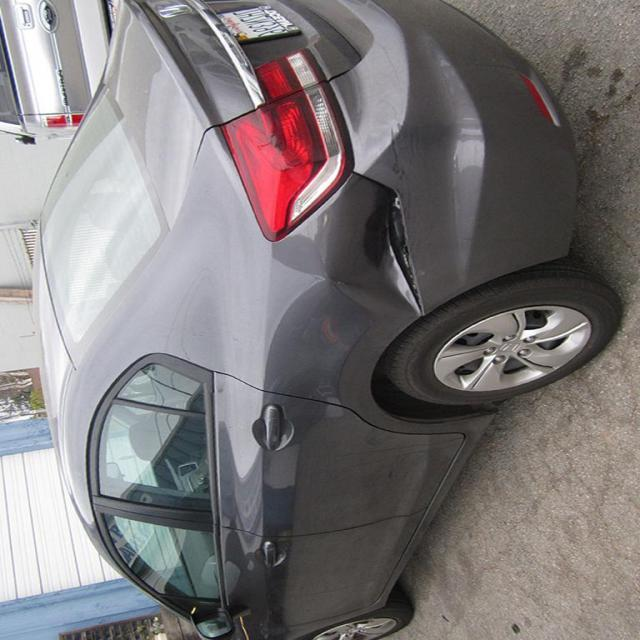dent: (330, 159, 430, 334)
